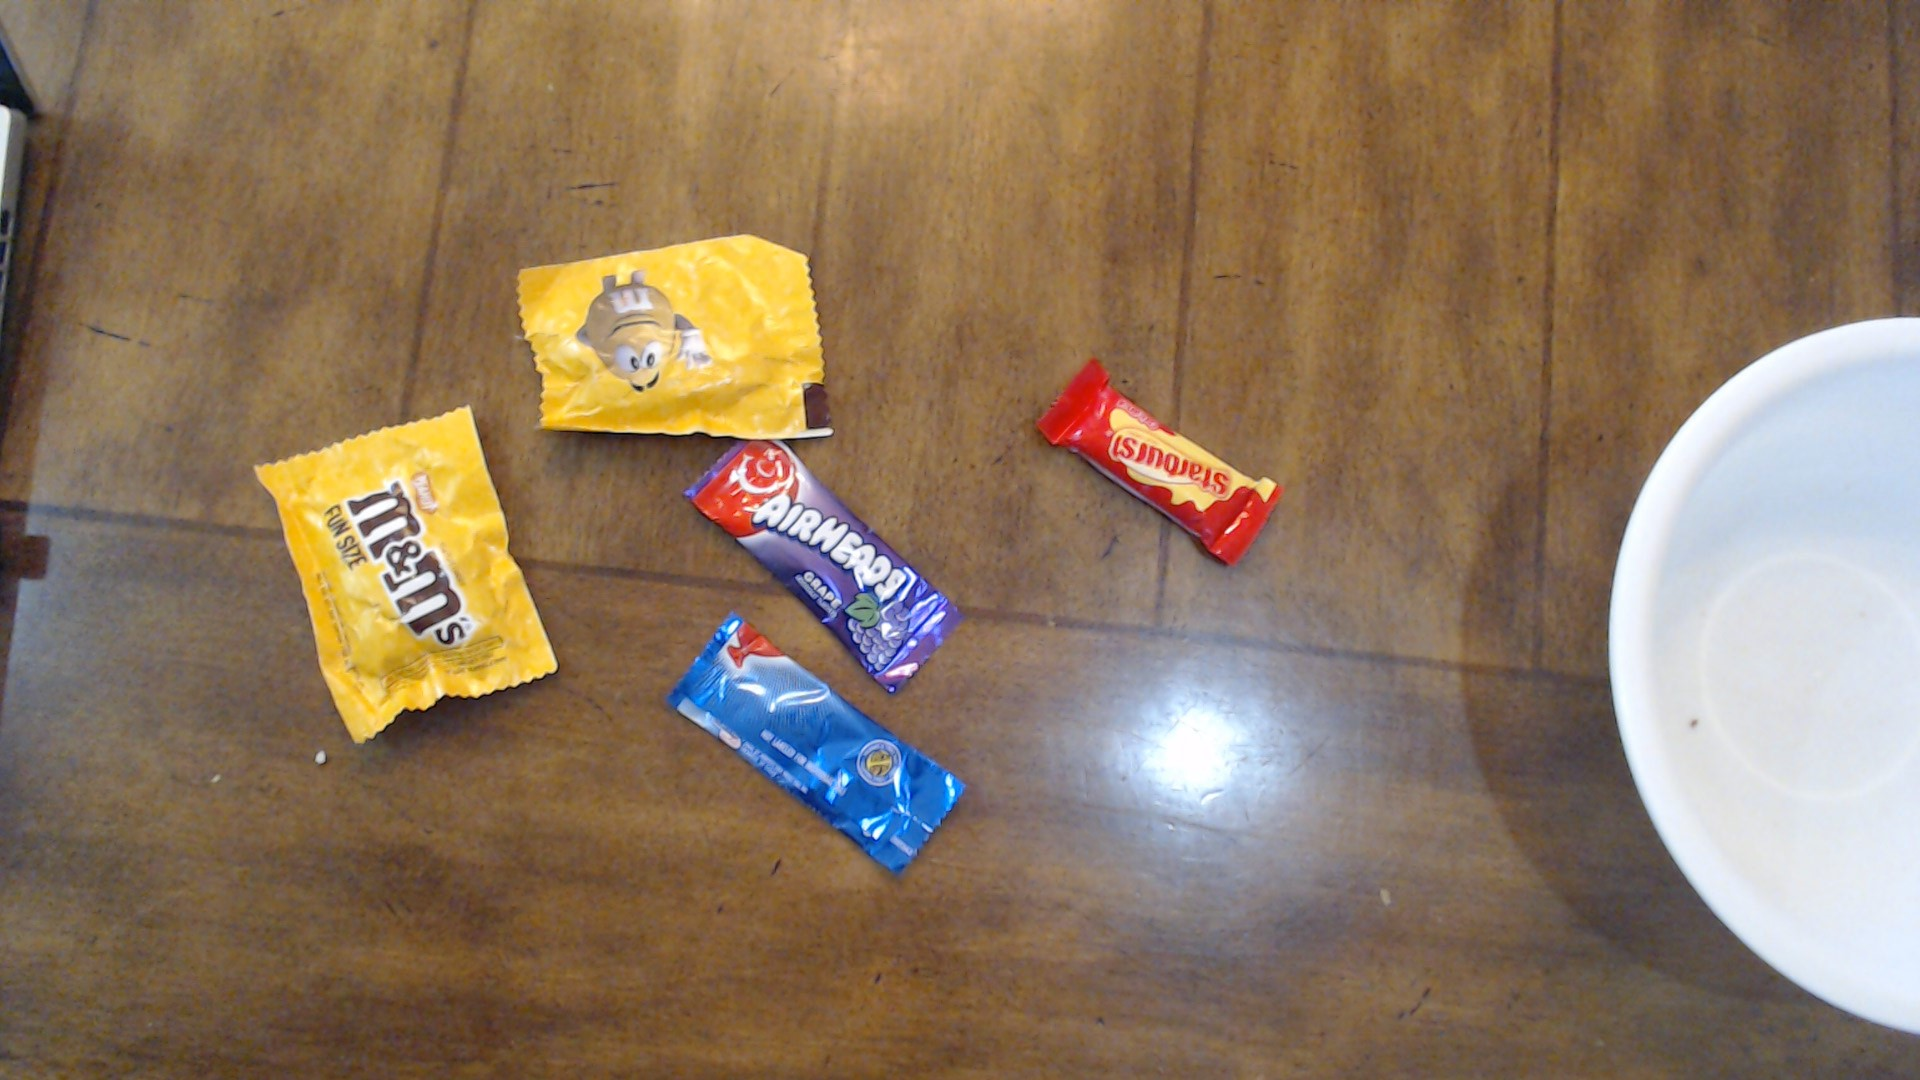MMs_regular: (214, 397, 596, 771), (446, 193, 862, 446)
airheads: (669, 622, 980, 911), (695, 430, 990, 694)
starbust: (1019, 343, 1303, 589)
